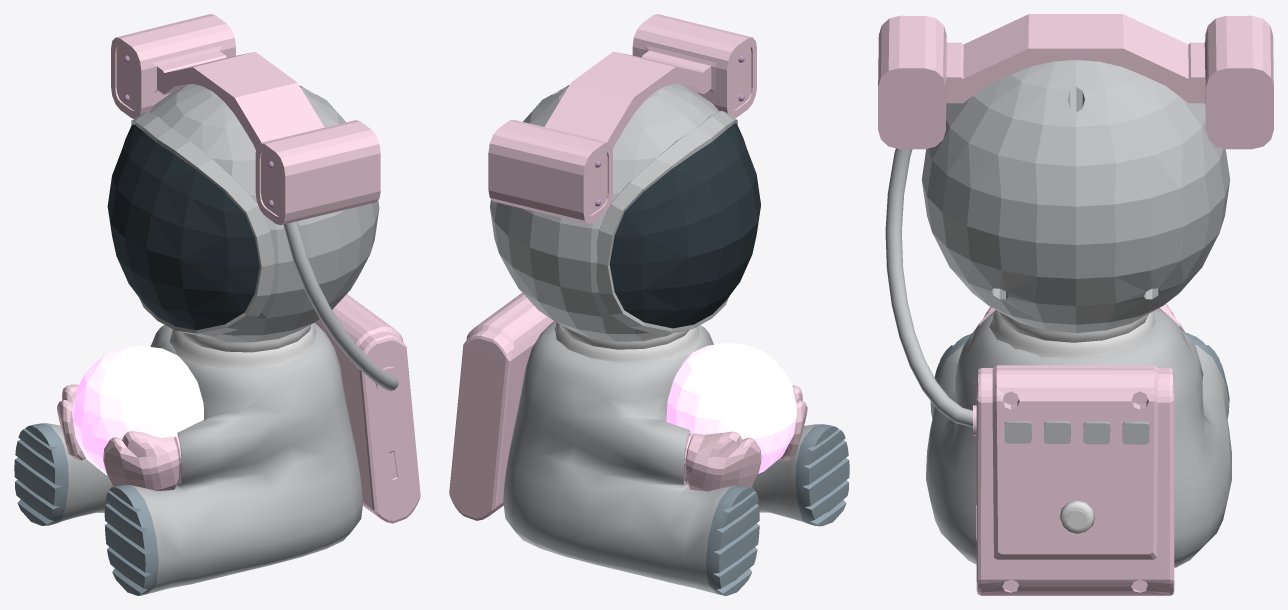
The model's file is astronautlp.glb.
3 renders of one model, left to right at view 1: azimuth 30°, elevation 25°; view 2: azimuth 150°, elevation 25°; view 3: azimuth 270°, elevation 25°, orthographic. The views are drawn at different scales.
Visible parts, largest first — view 1: Body_low, Glass_low, Headphones1_low, Head_low, Backpack_low, Lune_low, Headphones_low, Arms_low, Collar_low, Wire_low; view 2: Body_low, Glass_low, Head_low, Headphones1_low, Backpack_low, Lune_low, Headphones_low, Arms_low, Collar_low; view 3: Head_low, Backpack_low, Body_low, Headphones1_low, Headphones_low, Wire_low, Collar_low, Buttons_low, button_low.
Part boxes in pixels (x1,y1,x2,y2): Body_low: (14,322,363,595); Glass_low: (107,111,274,336); Headphones1_low: (111,14,380,225); Head_low: (149,84,379,342); Backpack_low: (315,294,420,523); Lune_low: (72,345,203,475); Headphones_low: (151,45,324,150); Arms_low: (57,384,181,490); Collar_low: (170,323,316,369); Wire_low: (283,221,398,391); Body_low: (503,321,849,595); Glass_low: (596,110,760,334); Head_low: (490,83,719,341); Headphones1_low: (488,14,756,224); Backpack_low: (449,293,553,520); Lune_low: (666,343,797,473); Headphones_low: (544,45,716,149); Arms_low: (684,385,807,491); Collar_low: (554,322,701,362); Head_low: (921,59,1230,333); Backpack_low: (976,365,1174,595); Body_low: (926,308,1231,567); Headphones1_low: (878,15,1273,149); Headphones_low: (944,14,1207,107); Wire_low: (885,148,972,427); Collar_low: (989,310,1155,359); Buttons_low: (1004,421,1149,444); button_low: (1059,500,1094,533).
Size of the model in its own units: 6.58 by 9.22 by 6.57.
